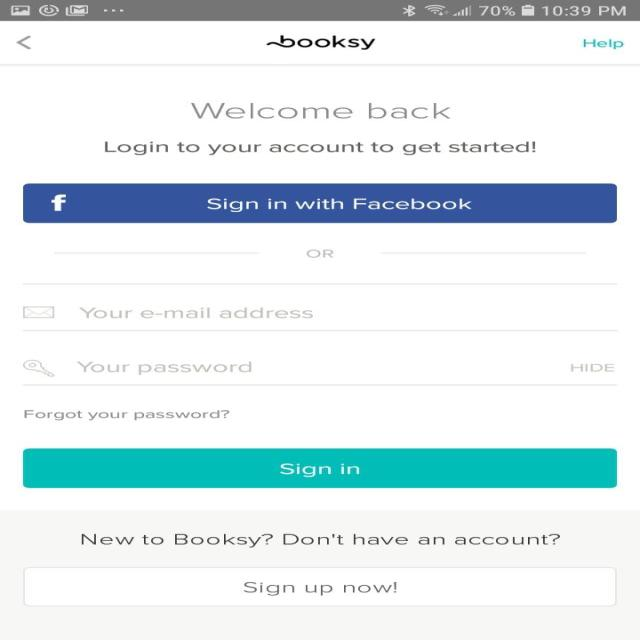EditText: (23, 359, 617, 386), (22, 306, 618, 331)
Icon: (22, 306, 54, 318), (16, 35, 32, 50)
Image: (266, 35, 376, 50), (23, 359, 55, 377)
Text: (82, 534, 560, 548), (104, 140, 535, 155), (190, 102, 451, 120), (78, 306, 313, 318), (76, 361, 252, 375), (23, 410, 229, 420), (582, 39, 623, 50), (570, 363, 614, 371), (306, 248, 334, 258)
TextButton: (22, 566, 616, 606), (22, 448, 616, 488), (23, 183, 617, 223)
